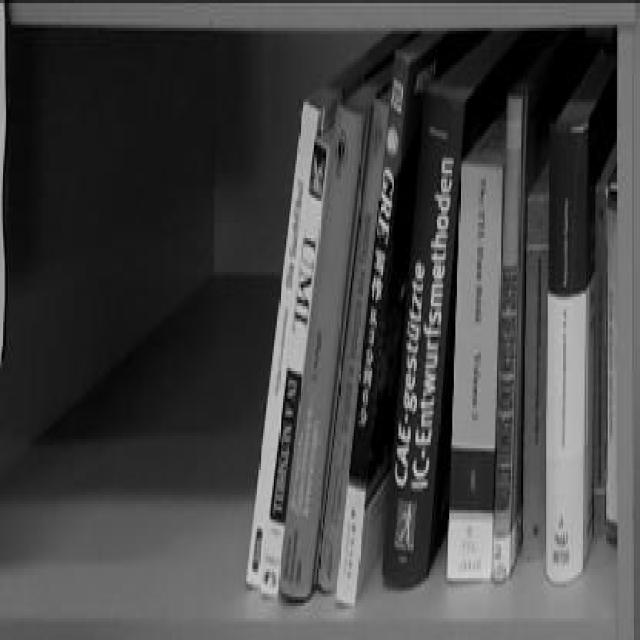book: (351, 49, 407, 618), (545, 116, 598, 589), (446, 166, 503, 579), (500, 102, 523, 581), (524, 173, 543, 563)
